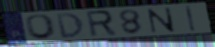8: (118, 9, 144, 35)
D: (54, 12, 86, 40)
I: (184, 4, 198, 33)
N: (146, 7, 177, 34)
O: (25, 13, 59, 40)
R: (84, 9, 119, 39)
